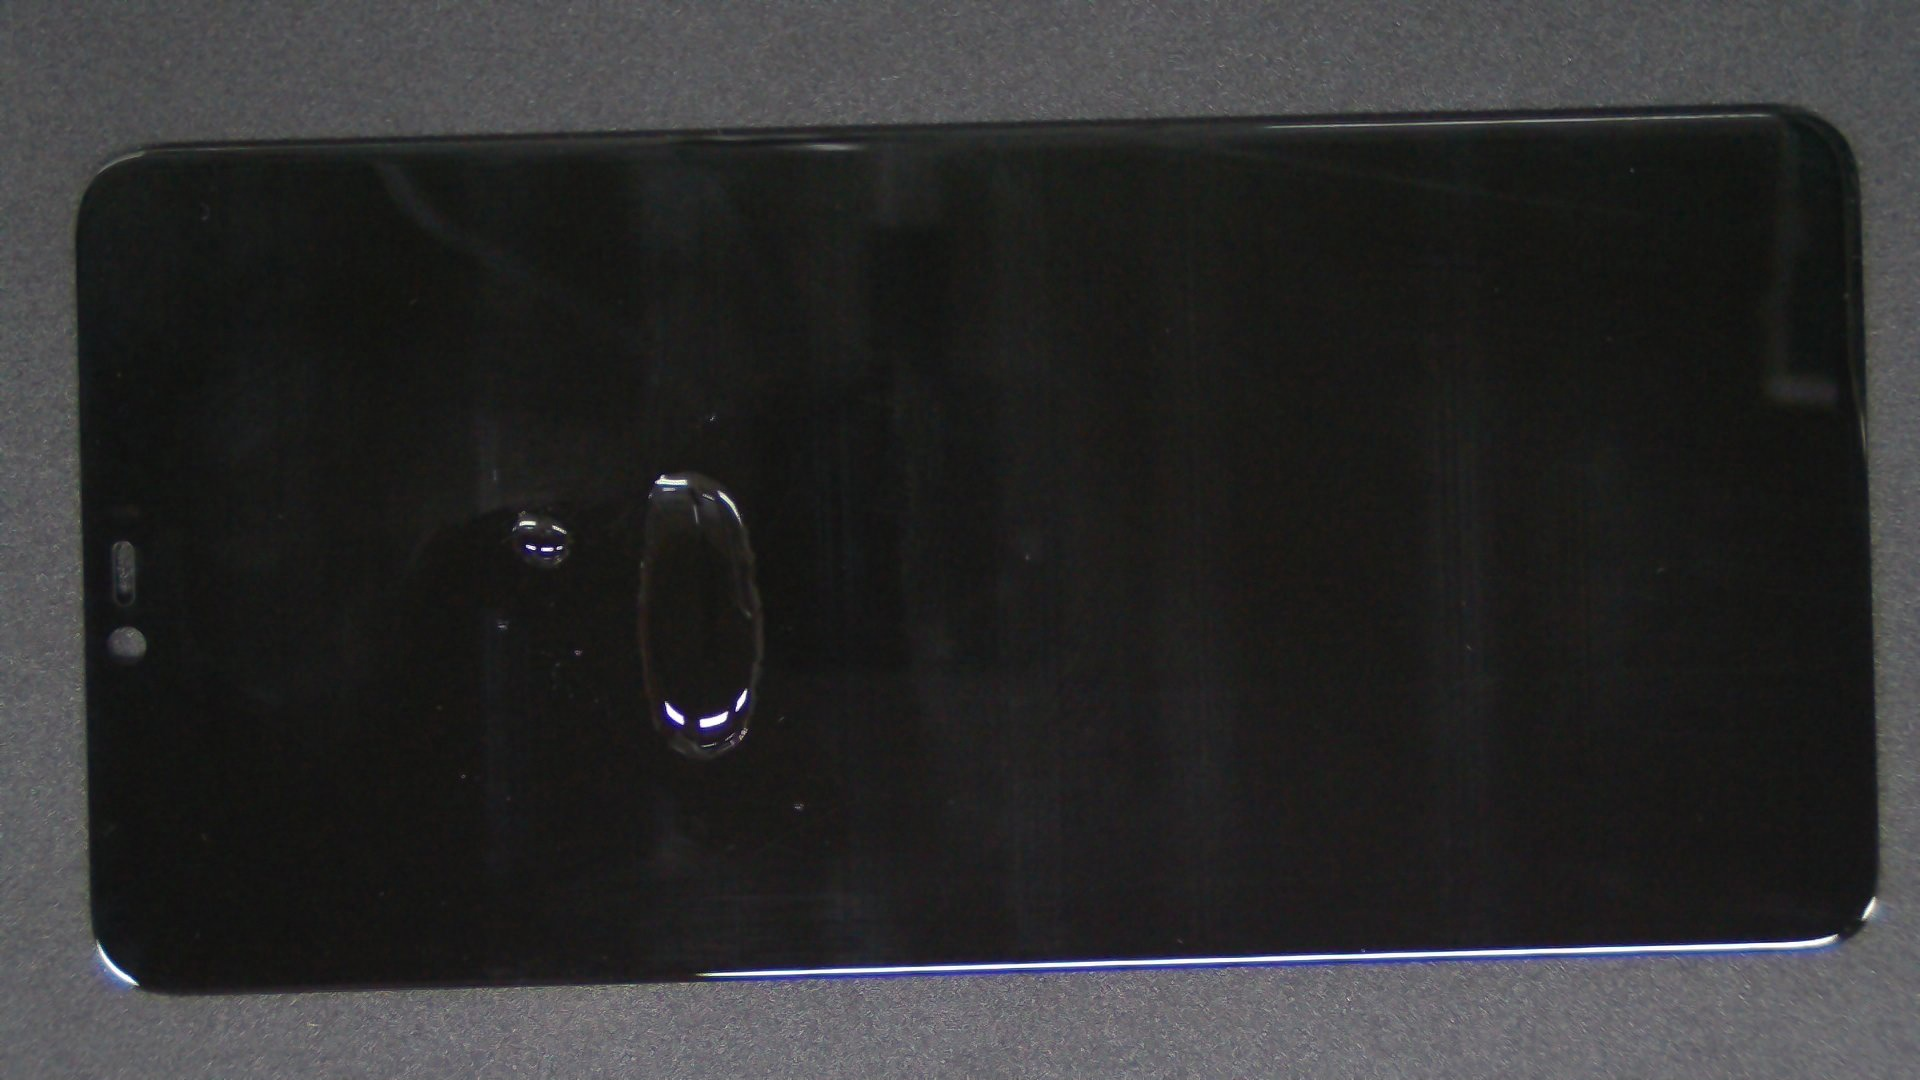oil: (342, 235, 1025, 707), (262, 255, 785, 766)
